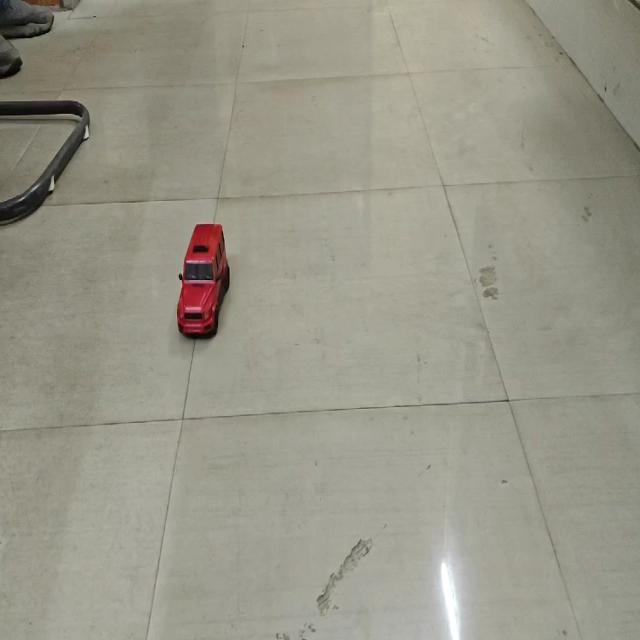light_vehicle: (176, 218, 231, 340)
